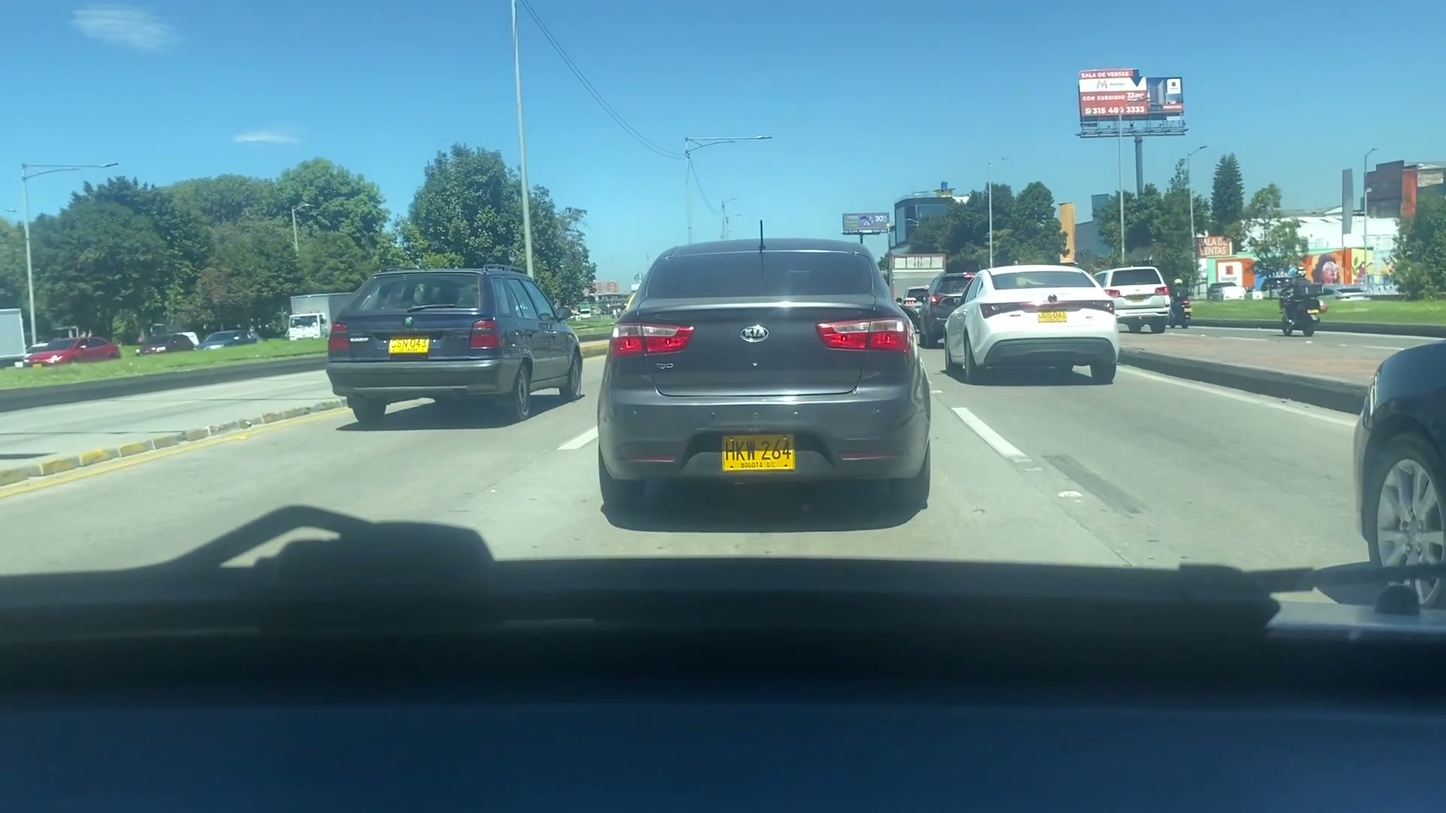car: (600, 236, 932, 512), (330, 266, 581, 425), (944, 266, 1121, 382), (1096, 267, 1172, 329), (923, 269, 982, 343), (19, 334, 130, 372), (139, 328, 192, 361), (199, 322, 256, 351), (895, 283, 930, 320)
motorcycle: (1276, 296, 1321, 342), (1169, 300, 1191, 328)
truck: (288, 283, 359, 343)
